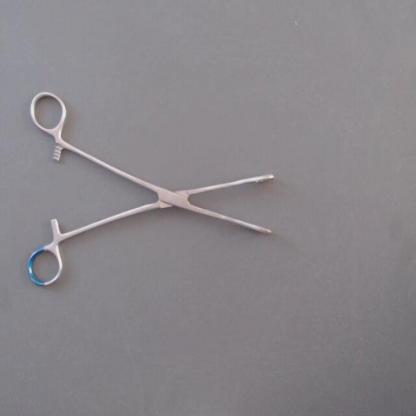Sponge Forceps: (18, 82, 289, 295)
